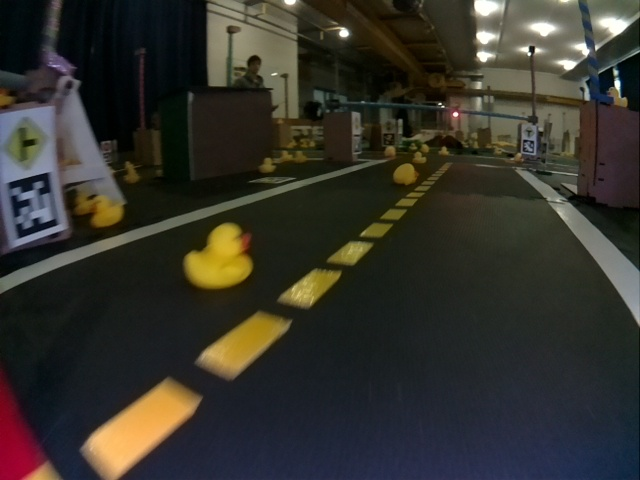Duckie: (186, 223, 251, 286), (90, 196, 123, 227), (393, 164, 418, 185), (76, 193, 93, 215), (259, 157, 275, 170), (414, 152, 426, 163), (294, 151, 306, 162), (384, 148, 396, 157), (281, 151, 292, 160), (438, 147, 449, 155), (409, 143, 418, 150), (426, 144, 430, 153)
Intersection sign: (4, 110, 53, 169), (523, 126, 535, 138)
QR code: (7, 174, 60, 240), (523, 140, 534, 153)
